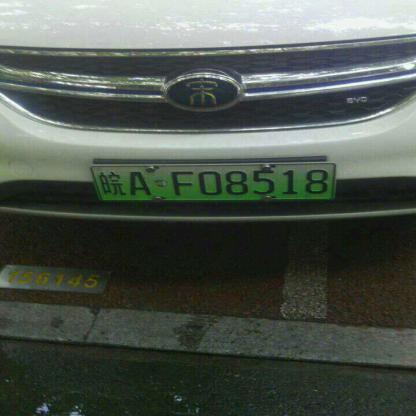lp: (91, 163, 332, 198)
